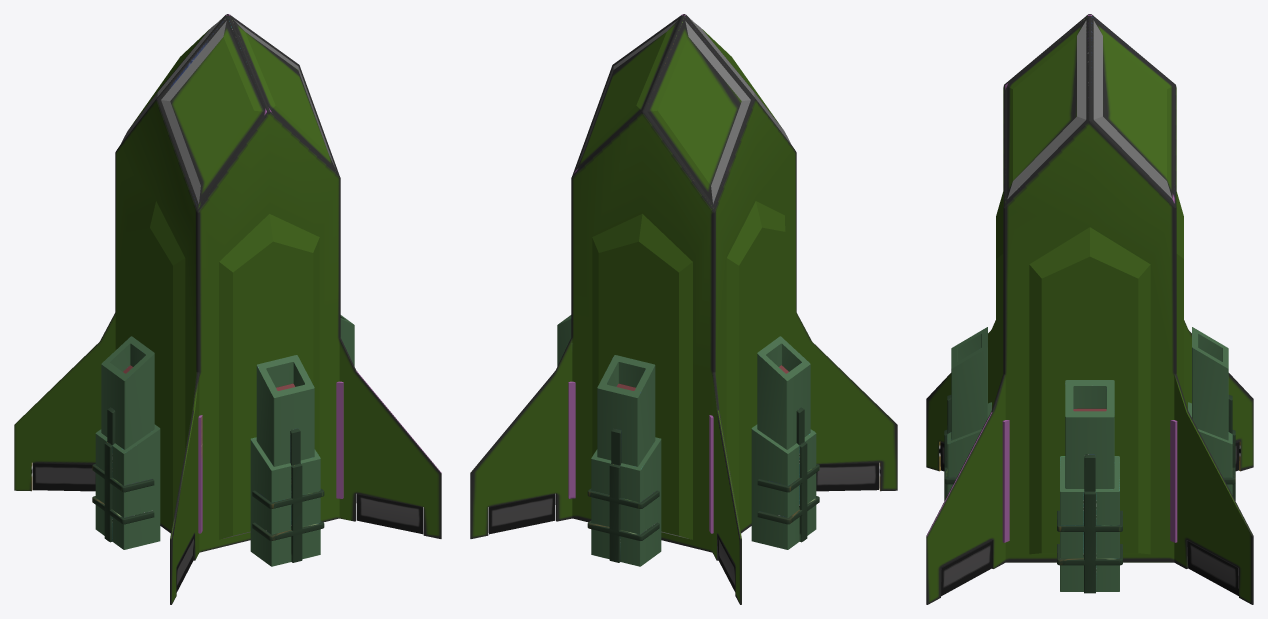
File: Mars_Spaceships.fbx
3 renders of one model, left to right at view 1: azimuth 30°, elevation 25°; view 2: azimuth 150°, elevation 25°; view 3: azimuth 270°, elevation 25°, orthographic. The views are drawn at different scales.
Visible parts, largest first — view 1: Rocket; view 2: Rocket; view 3: Rocket.
Part boxes in pixels (left/top/right/bottom): Rocket: left=14, top=14, right=441, bottom=604; Rocket: left=470, top=14, right=897, bottom=604; Rocket: left=926, top=14, right=1253, bottom=604.
Bounding box in the file's own units: 4.99 × 8.77 × 4.99.
2 materials, 2 textured.
